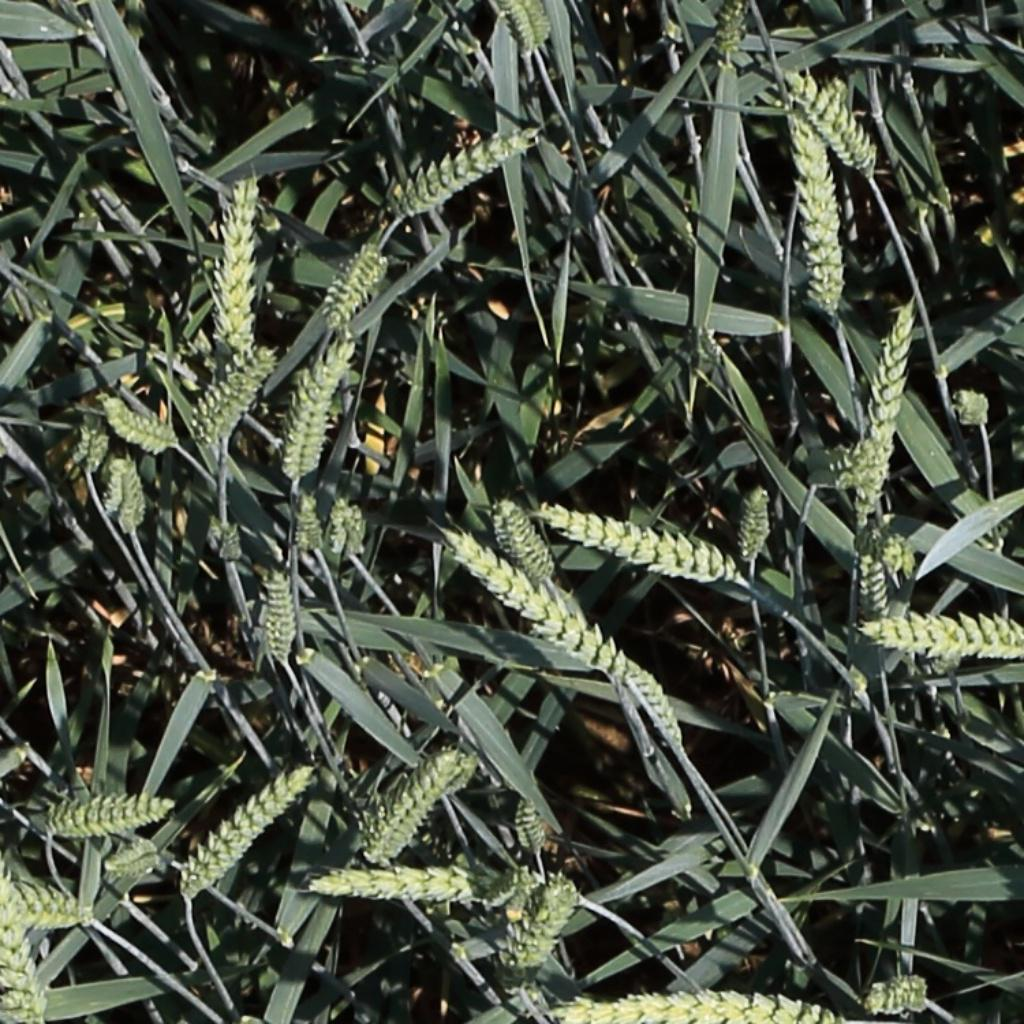0-0: (440, 523, 613, 675), (178, 764, 314, 898), (543, 507, 737, 578), (858, 298, 917, 522), (205, 174, 268, 375), (395, 129, 533, 215), (494, 873, 573, 1016), (367, 748, 460, 866), (285, 338, 354, 480), (787, 68, 880, 172), (842, 612, 1024, 663), (317, 867, 507, 912), (800, 125, 845, 311), (196, 342, 277, 443), (621, 650, 700, 750), (322, 240, 390, 334), (0, 887, 47, 1015), (495, 494, 557, 588), (50, 790, 173, 834), (282, 360, 322, 480), (818, 434, 898, 494), (849, 541, 890, 648), (101, 397, 178, 450), (855, 512, 916, 571), (266, 565, 293, 667), (866, 971, 933, 1011), (741, 481, 772, 567), (0, 891, 86, 922), (513, 788, 545, 861), (500, 865, 544, 917), (111, 460, 142, 529), (296, 488, 326, 559), (512, 1, 550, 55), (73, 417, 107, 477), (718, 0, 750, 62), (105, 839, 156, 876), (217, 512, 249, 569), (334, 491, 358, 561), (955, 385, 991, 428), (3, 989, 45, 1024)
